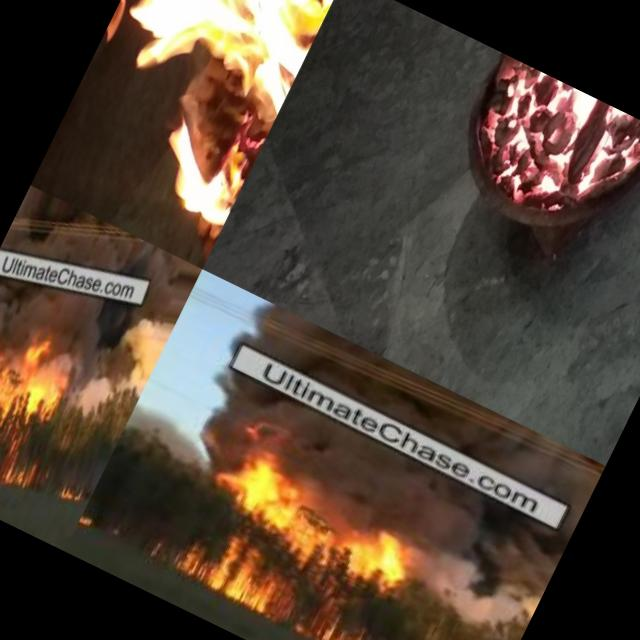fire: (40, 0, 344, 246), (165, 425, 420, 640), (456, 60, 640, 249), (0, 305, 94, 519), (51, 480, 86, 514)
smoke: (393, 499, 559, 640), (64, 302, 173, 439)
